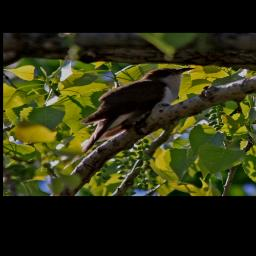Cuckoo: (77, 66, 195, 164)
